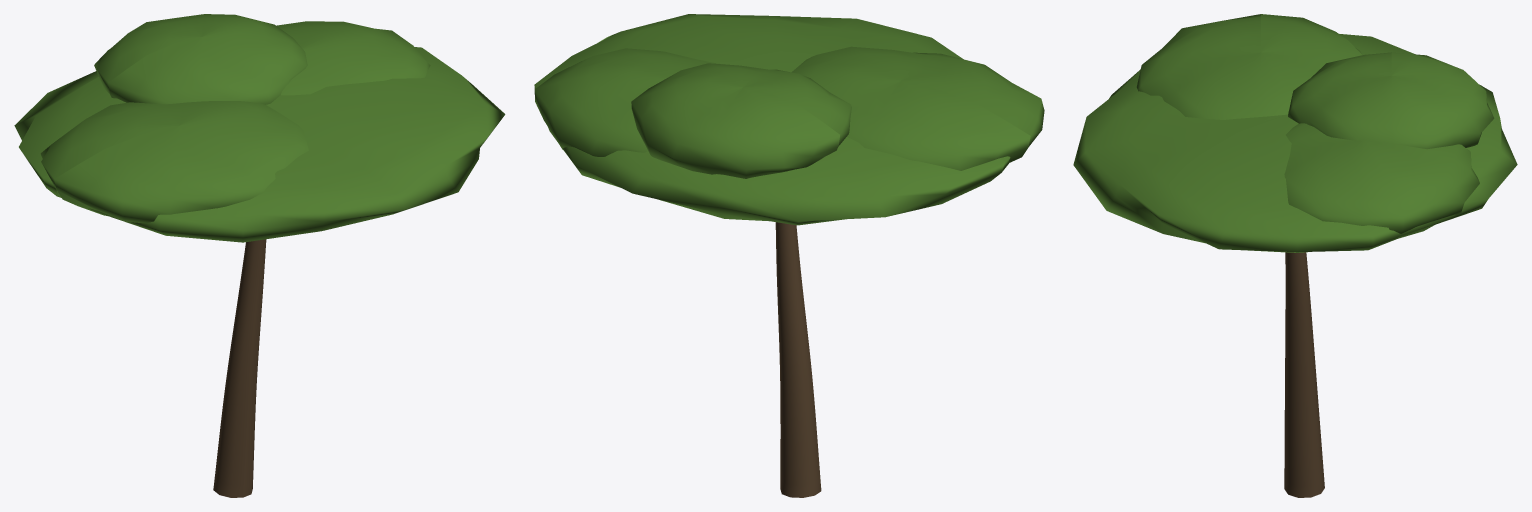
File: acacia.glb
The picture shows the model from 3 angles, left to right: view 1: azimuth 30°, elevation 25°; view 2: azimuth 150°, elevation 25°; view 3: azimuth 270°, elevation 25°; orthographic projection. The views are drawn at different scales.
Visible parts, largest first — view 1: Acacia tree; view 2: Acacia tree; view 3: Acacia tree.
Part boxes in pixels (x1,y1,x2,y2): Acacia tree: [14, 14, 505, 497]; Acacia tree: [534, 14, 1044, 497]; Acacia tree: [1073, 14, 1517, 497].
Bounding box in the file's own units: 6.96 × 6.42 × 6.13.
